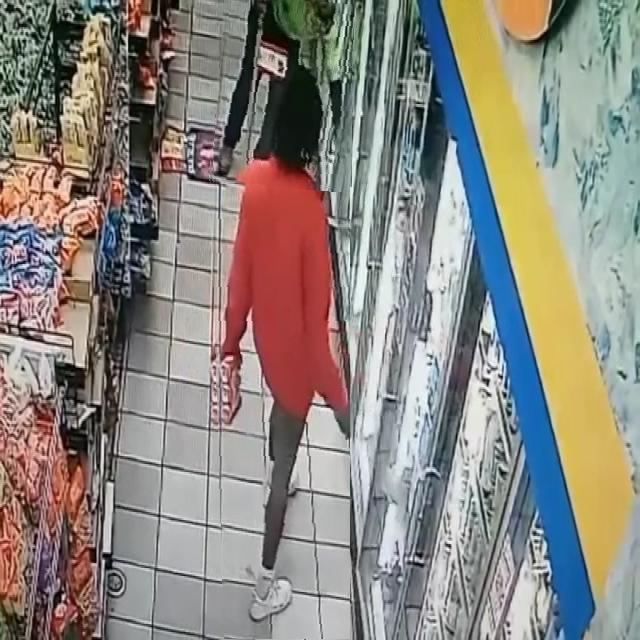Normal: (207, 67, 350, 639), (213, 0, 352, 189)
